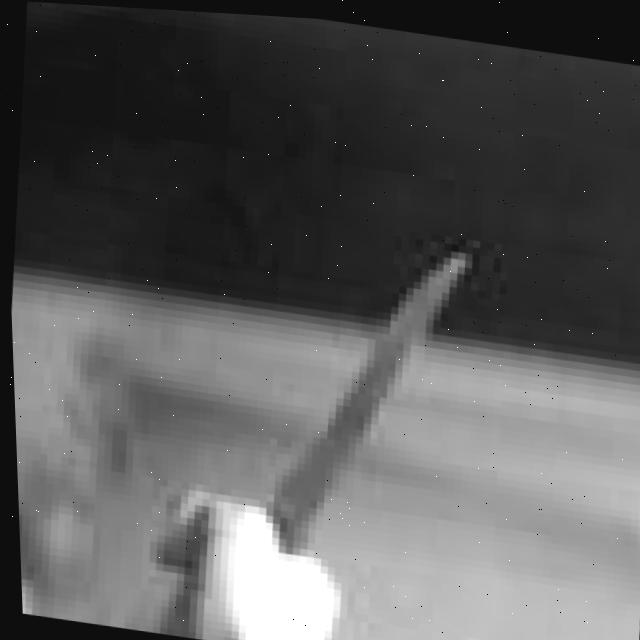knife: (254, 214, 487, 565)
